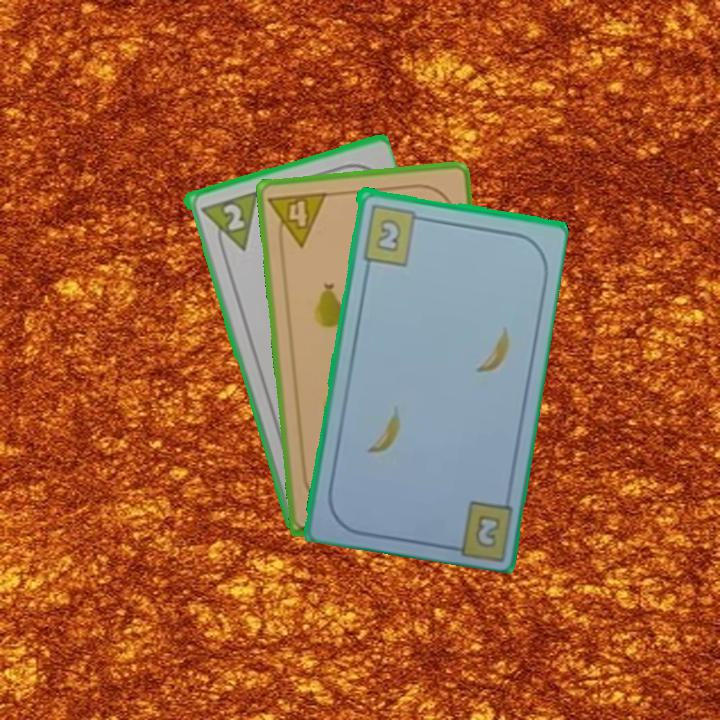2b: (358, 200, 428, 268), (471, 510, 503, 551)
2p: (196, 187, 260, 259)
4p: (265, 188, 330, 252)
